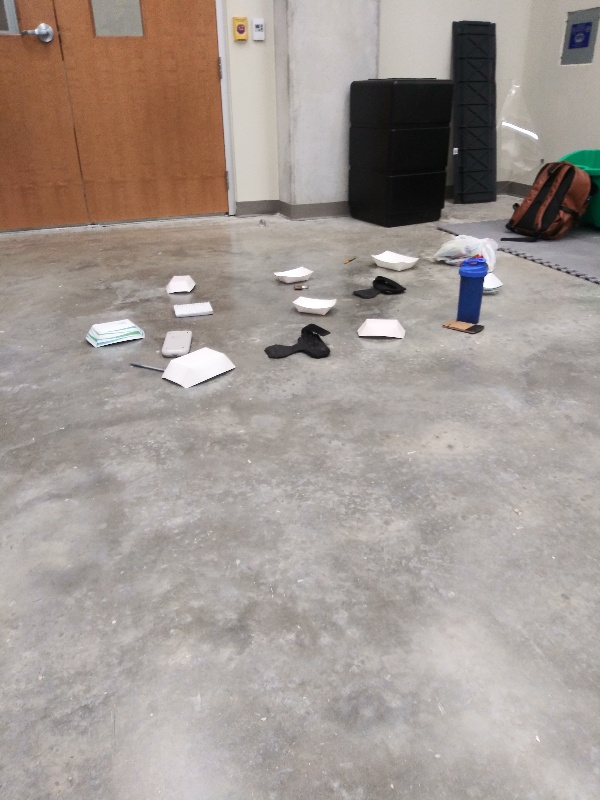plate: (158, 345, 239, 393), (81, 318, 150, 349), (353, 316, 410, 344), (368, 247, 420, 275), (290, 292, 340, 317), (267, 263, 318, 285), (162, 270, 199, 300), (480, 268, 505, 297)
